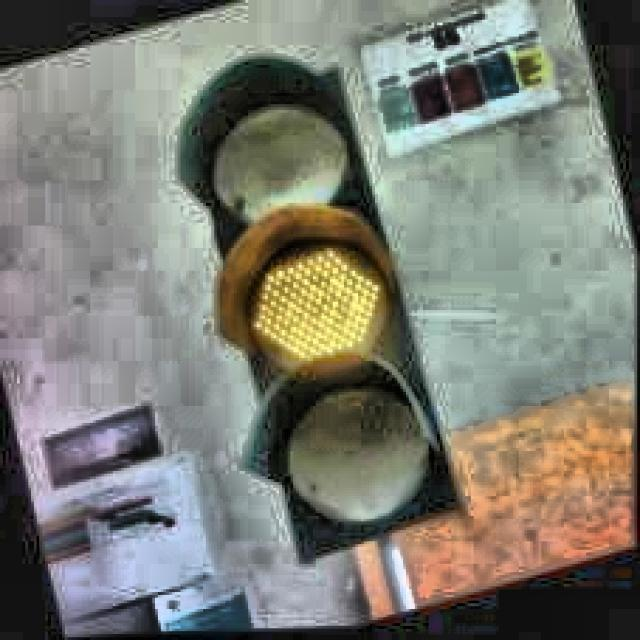yellow: (152, 28, 468, 570)
